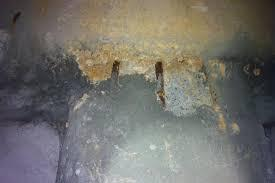exposed_rebar: (155, 61, 165, 106), (111, 61, 120, 88)
spalling: (71, 42, 212, 116)
